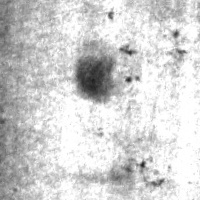patches: (69, 49, 115, 106)
